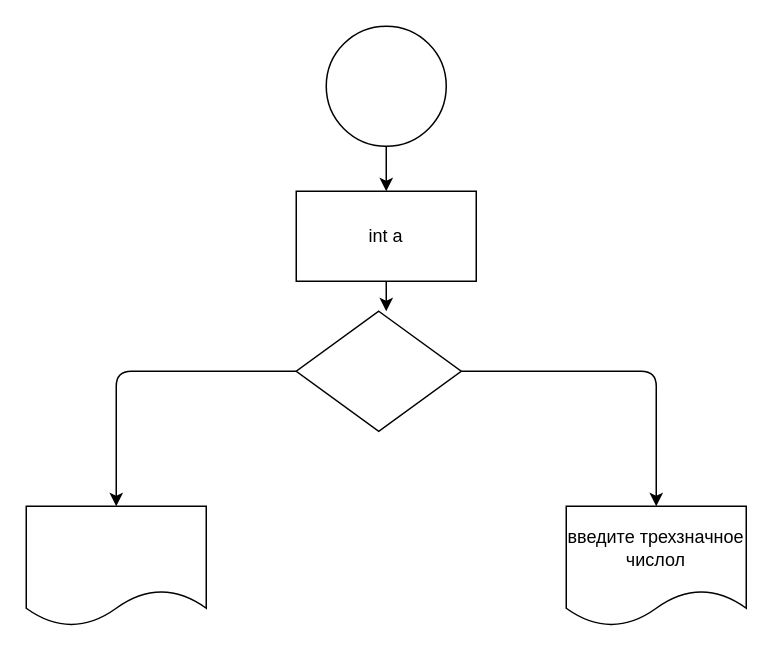
Some shapes in this 773 by 653 pixel diagram are drawn without their labels. The centre of each missing label's shape, as x and y in pixels:
if a.Length =>3: point 378,370
start: point 385,85
